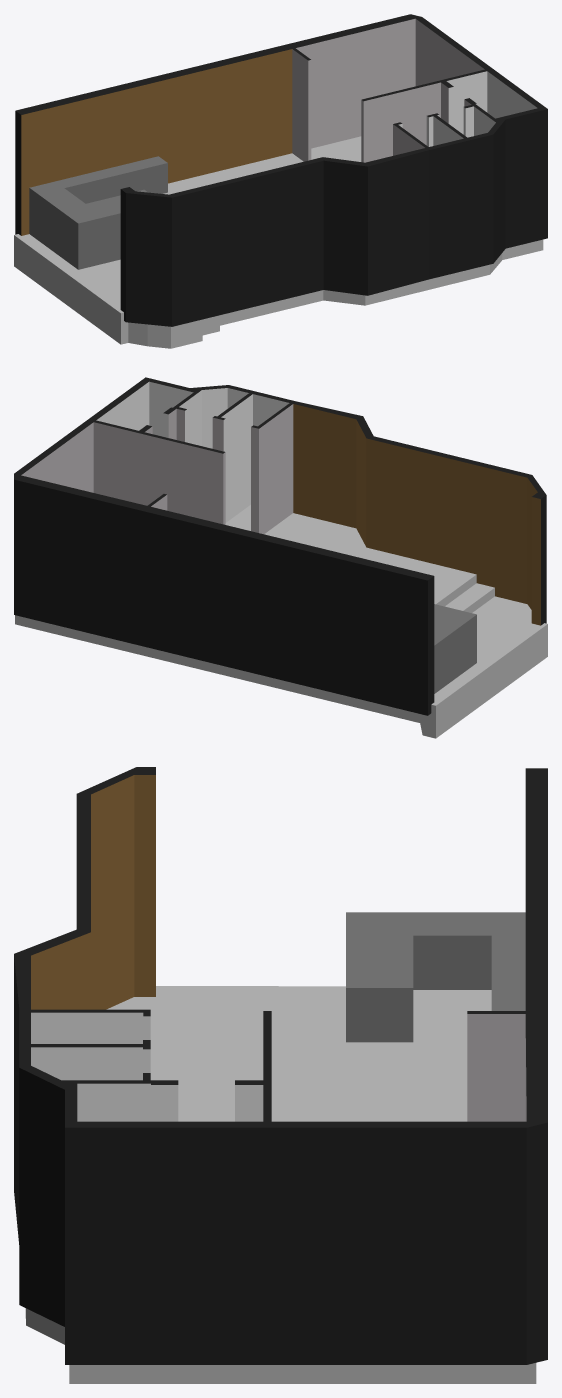
The model's file is new_tavern.glb.
The picture shows the model from 3 angles, top to bottom: view 1: azimuth 30°, elevation 25°; view 2: azimuth 150°, elevation 25°; view 3: azimuth 270°, elevation 25°; orthographic projection. The views are drawn at different scales.
Visible parts, largest first — view 1: Room.002, Floor.002, Counter.002; view 2: Room.002, Floor.002, Counter.002; view 3: Room.002, Floor.002, Counter.002.
Part boxes in pixels (x1,y1,x2,y2): Room.002: [15, 14, 547, 326]; Floor.002: [14, 136, 543, 348]; Counter.002: [29, 156, 167, 269]; Room.002: [14, 377, 546, 715]; Floor.002: [15, 505, 547, 738]; Counter.002: [434, 604, 476, 693]; Room.002: [14, 767, 547, 1364]; Floor.002: [25, 986, 536, 1383]; Counter.002: [346, 912, 525, 1042].
Size of the model in its own units: 22.99 by 8.25 by 14.27.
